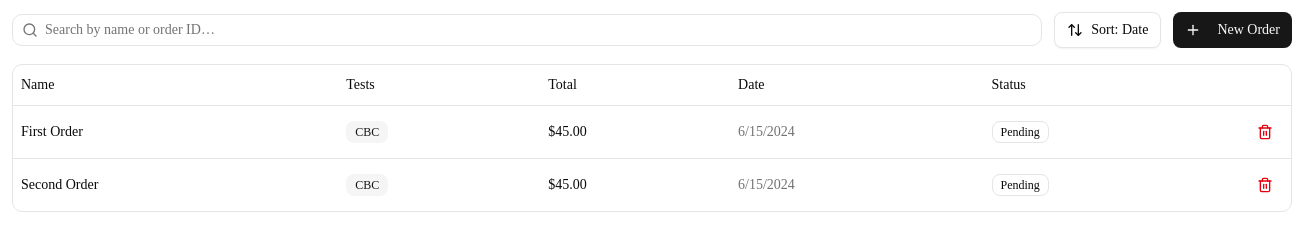
OrderTable › filters by order ID
The image size is (1304, 229).
Step 1. Type "abc" into the field with placeholder "Search by name or order ID…" → [527, 30], box [12,14,1042,46]
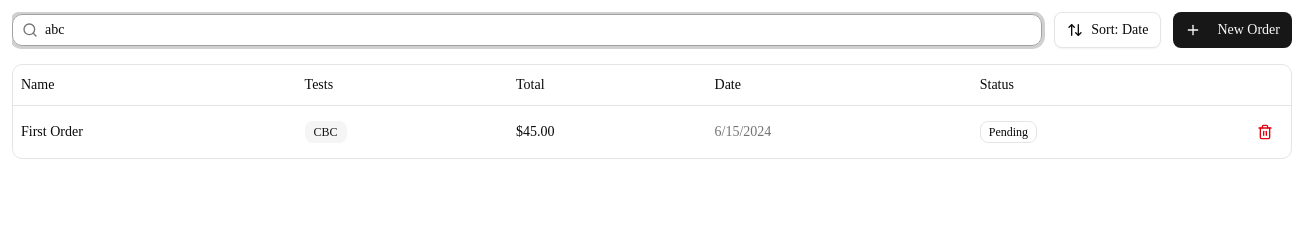
Expected: the text "First Order" is shown, [13,105,297,158]
Result: the text "Second Order" is gone
